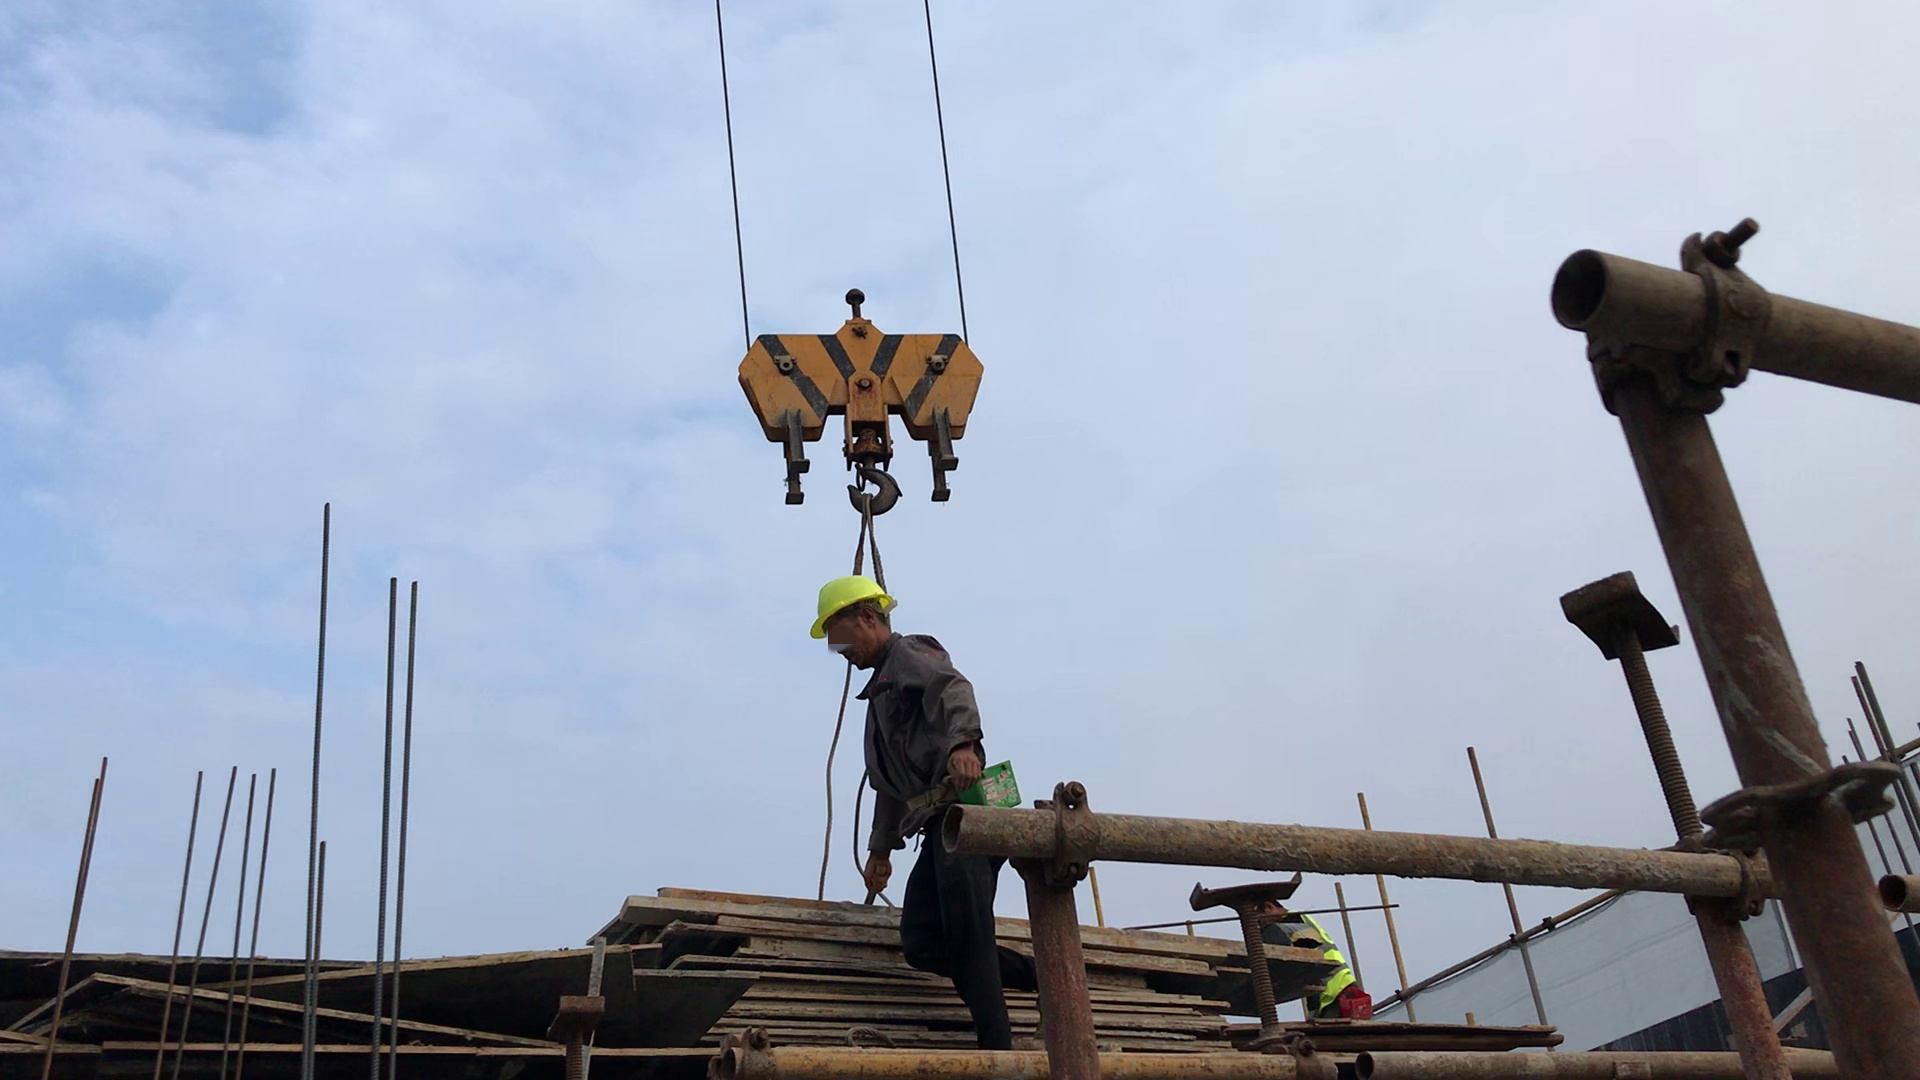board: (630, 896, 1259, 1046)
helmet: (803, 571, 908, 632)
hook: (737, 281, 1002, 515)
person: (770, 556, 1069, 1043), (1251, 891, 1407, 1038)
vest: (1285, 927, 1366, 1005)
